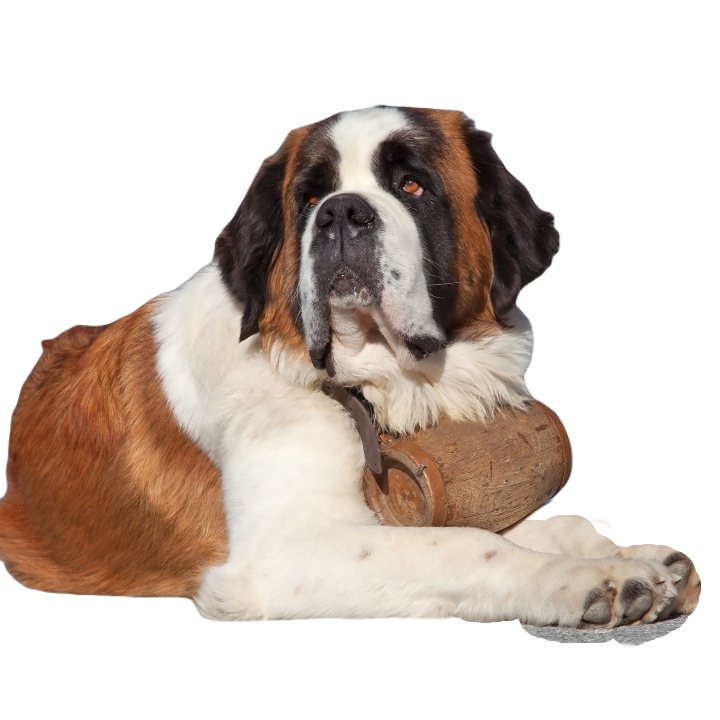Dog: (0, 103, 700, 629)
